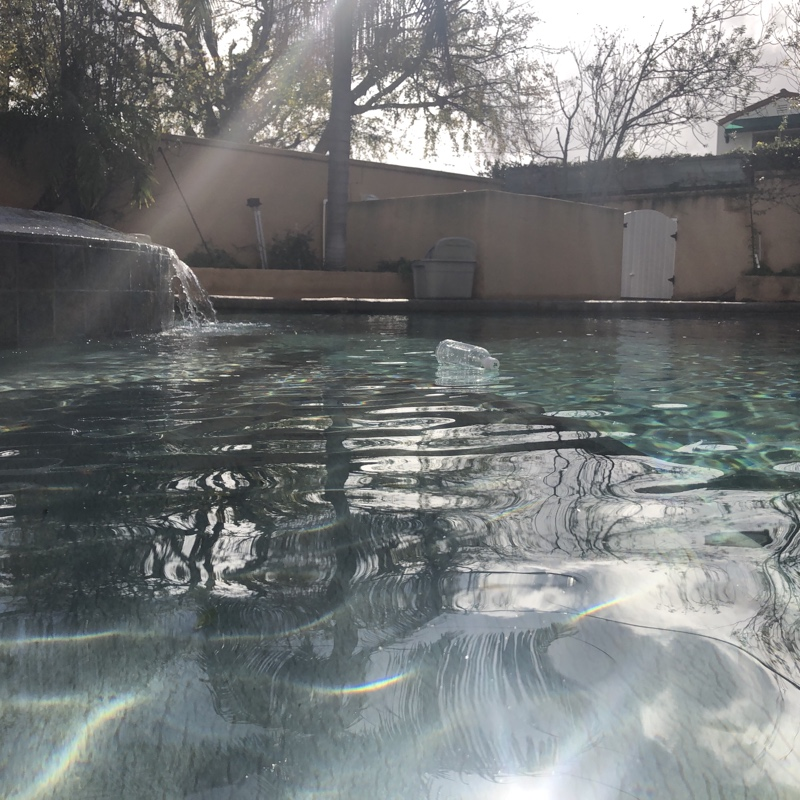Plastic Bottle: (429, 335, 507, 378)
